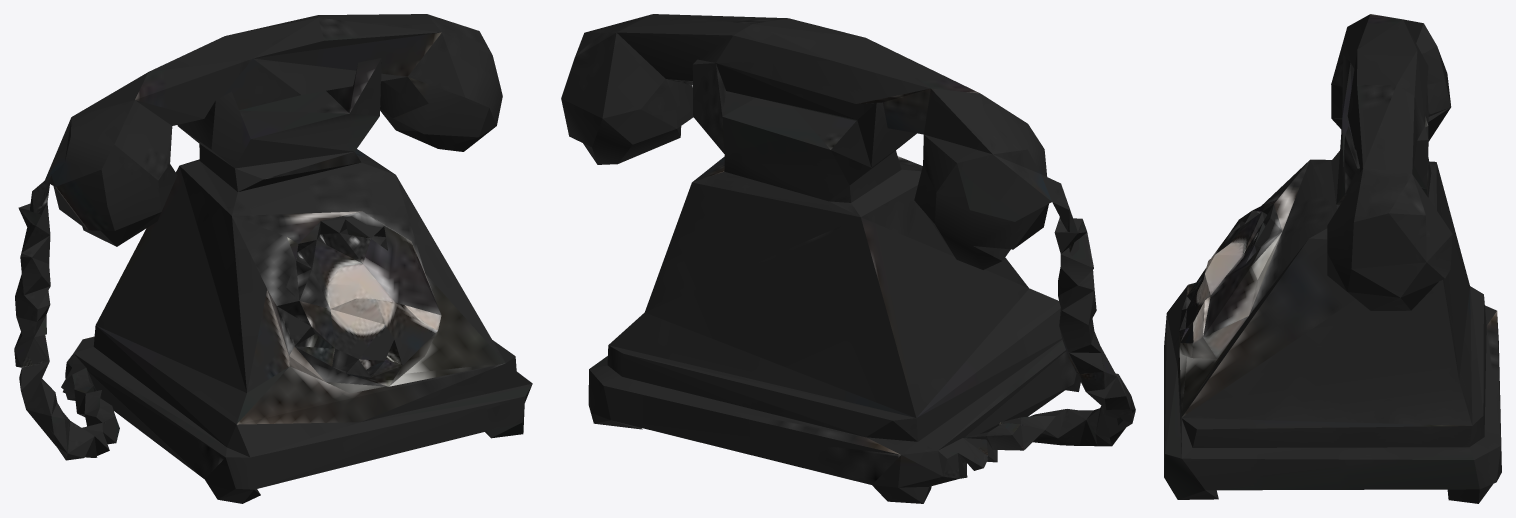
Rendered from telefone_antigo.glb.
3 views of the same model, side by side, from view 1: azimuth 30°, elevation 25°; view 2: azimuth 150°, elevation 25°; view 3: azimuth 270°, elevation 25° (orthographic). The views are drawn at different scales.
Visible parts, largest first — view 1: Mesh_0; view 2: Mesh_0; view 3: Mesh_0.
Part boxes in pixels (box(x1,y1,x2,y2)): Mesh_0: box(14, 14, 532, 503); Mesh_0: box(561, 14, 1135, 503); Mesh_0: box(1164, 14, 1501, 503).
Bounding box in the file's own units: 0.2806 × 0.2 × 0.1665.
1 material, 1 textured.
